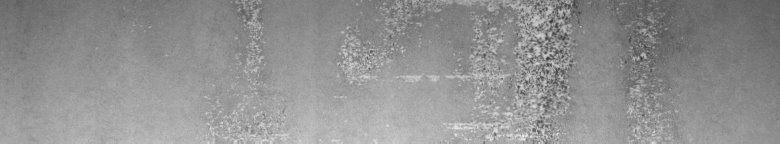hc: (475, 4, 668, 136)
